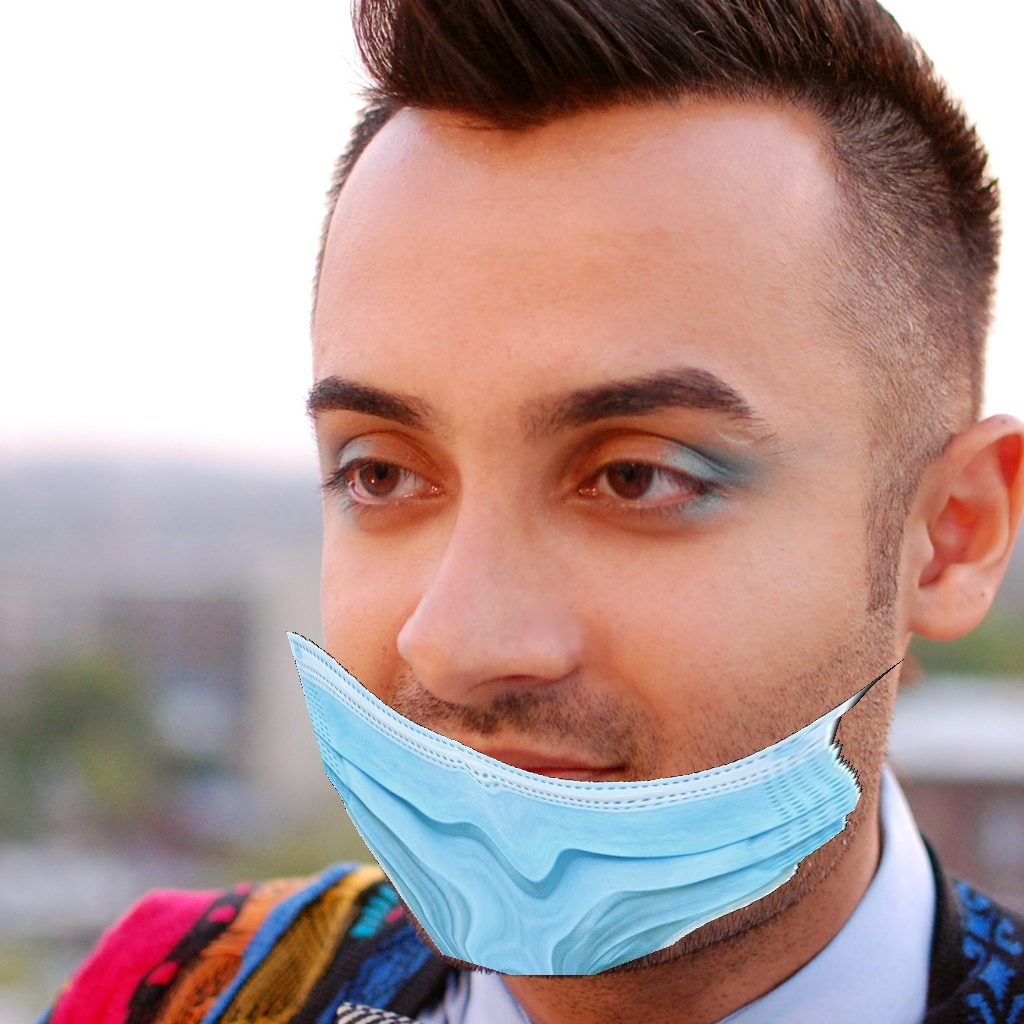mask_weared_incorrect: (234, 352, 919, 986)
